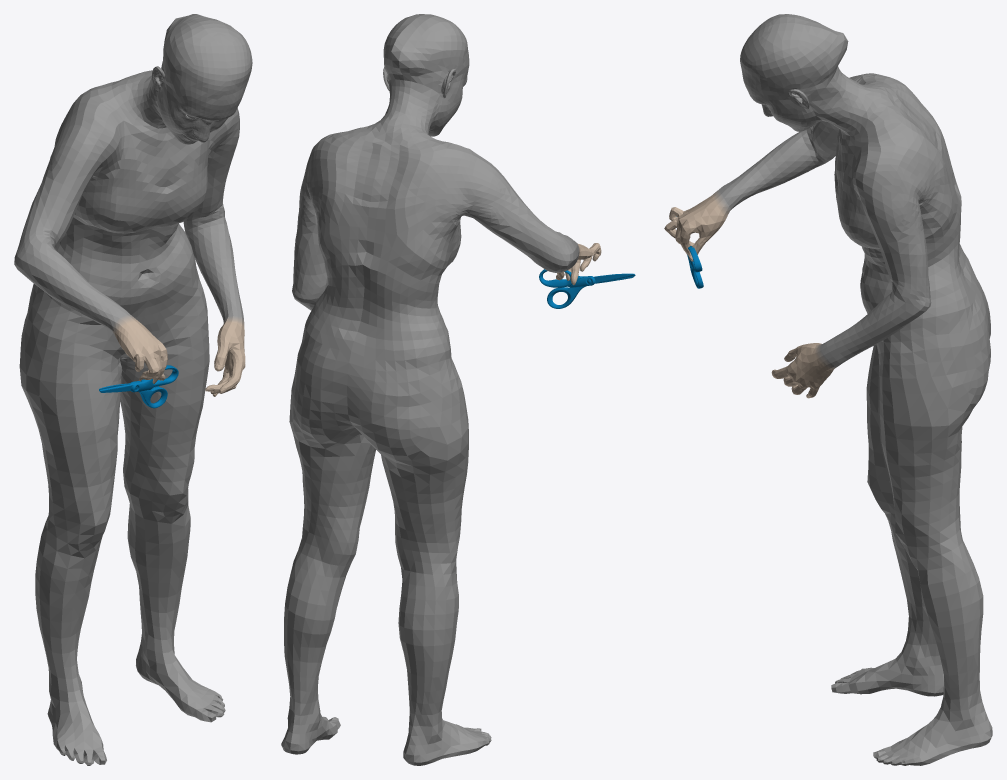
File: ood_pick_scissors_full_2.glb
3 renders of one model, left to right at view 1: azimuth 30°, elevation 25°; view 2: azimuth 150°, elevation 25°; view 3: azimuth 270°, elevation 25°, orthographic. The views are drawn at different scales.
Visible parts, largest first — view 1: ood_pick_scissors_full_2.obj; view 2: ood_pick_scissors_full_2.obj; view 3: ood_pick_scissors_full_2.obj.
Boxes of the visible parts, x1=… form: ood_pick_scissors_full_2.obj: x1=14, y1=14, x2=252, y2=765; ood_pick_scissors_full_2.obj: x1=281, y1=14, x2=635, y2=765; ood_pick_scissors_full_2.obj: x1=664, y1=14, x2=992, y2=765.
Size of the model in its own units: 0.5487 by 1.54 by 0.6395.
